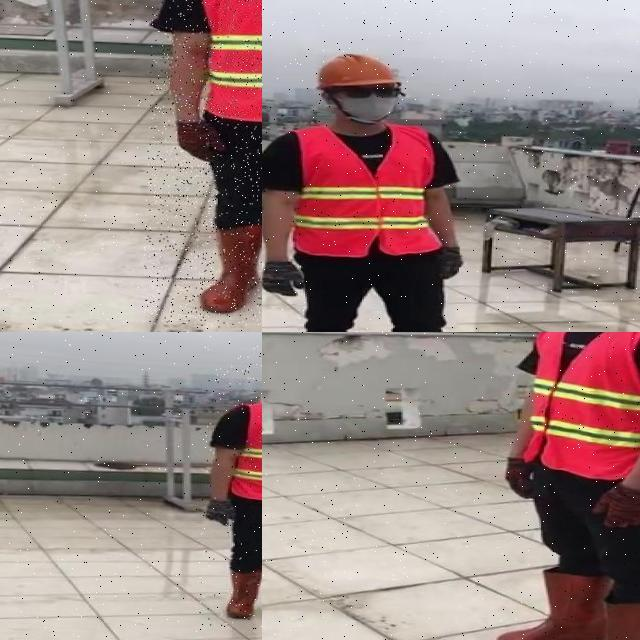boots: (495, 567, 612, 640), (199, 221, 262, 313), (559, 599, 640, 640), (220, 566, 260, 620)
helmet: (308, 48, 405, 92)
vest: (282, 122, 444, 256), (526, 332, 640, 479), (197, 0, 262, 124), (231, 398, 262, 502)
